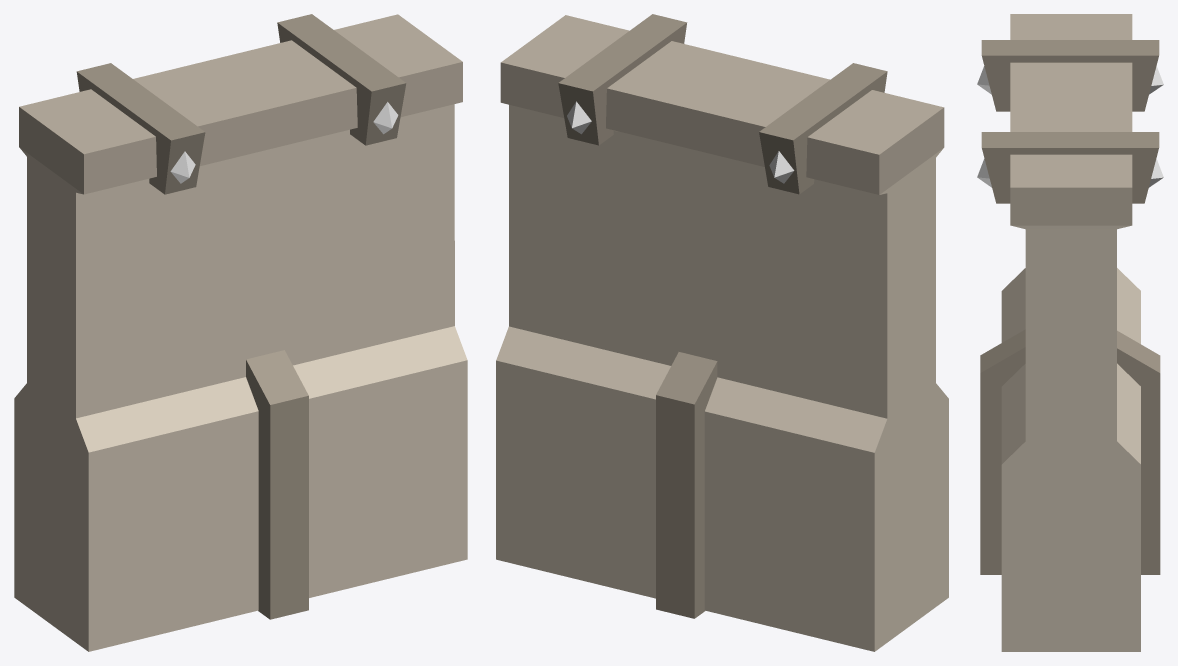
File: Wall_Straight.DAE
3 views of the same model, side by side, from view 1: azimuth 30°, elevation 25°; view 2: azimuth 150°, elevation 25°; view 3: azimuth 270°, elevation 25° (orthographic). The views are drawn at different scales.
Parts seen in each view (by area): view 1: Wall_Straight; view 2: Wall_Straight; view 3: Wall_Straight.
Boxes of the visible parts, <box> form: Wall_Straight: <box>14,14,467,651</box>; Wall_Straight: <box>496,14,948,651</box>; Wall_Straight: <box>977,14,1163,651</box>.
Bounding box in the file's own units: 1 × 1.27 × 0.4546.
